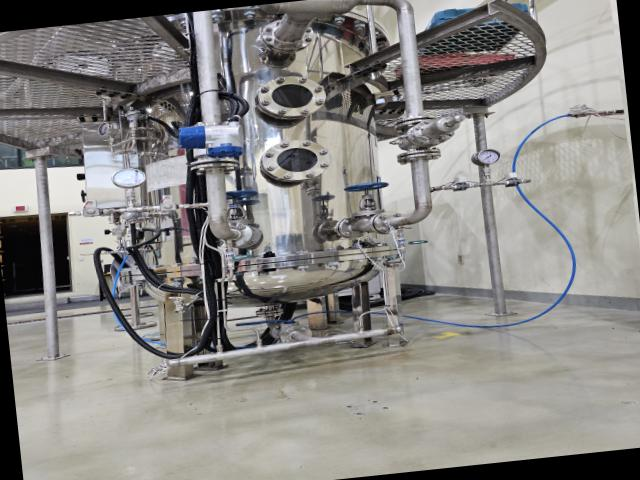Flange: (252, 71, 327, 123), (258, 137, 332, 186)
Flush Ring: (258, 16, 320, 55), (210, 219, 260, 251), (184, 154, 243, 175), (394, 146, 448, 164), (369, 210, 404, 236), (393, 114, 440, 133), (276, 324, 316, 345), (334, 215, 365, 240)
GasRegulator: (94, 103, 180, 165)
Nuts: (440, 179, 480, 195), (76, 204, 113, 220), (154, 200, 188, 214), (498, 175, 529, 189)
Piston Valve: (342, 177, 392, 218), (222, 185, 265, 226)
Pressure Gage: (110, 166, 150, 210), (466, 145, 508, 185)
